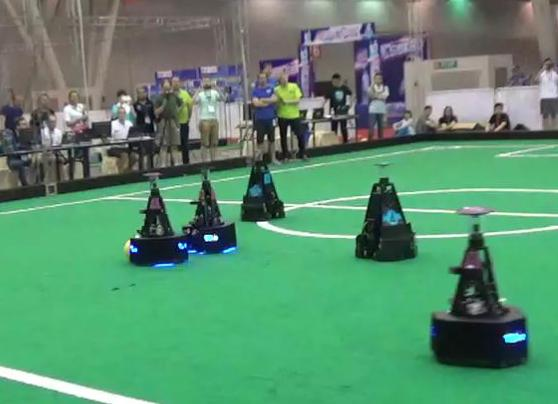robot: (424, 202, 535, 370), (349, 156, 420, 262), (126, 170, 193, 267), (181, 164, 240, 257), (237, 145, 291, 222)
